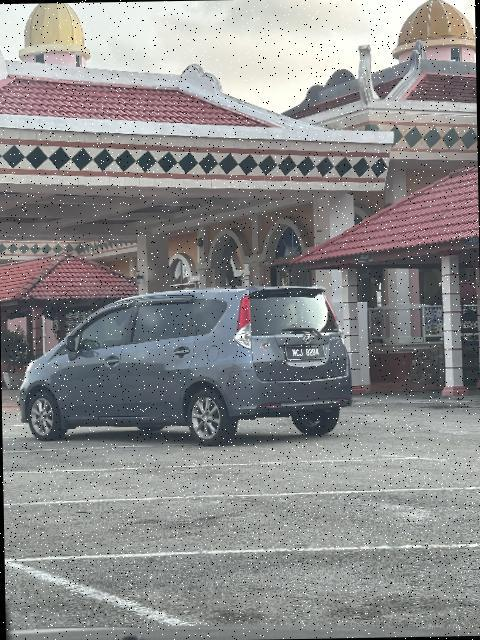License_Plate: (285, 344, 327, 364)
car: (13, 288, 358, 451)
